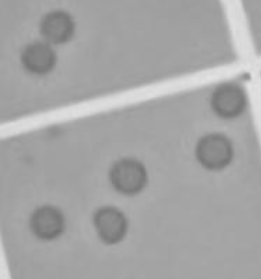cell: (102, 153, 152, 199), (189, 128, 237, 175), (23, 198, 69, 244), (88, 201, 131, 249), (206, 78, 250, 121), (17, 36, 58, 77), (37, 7, 78, 46)
